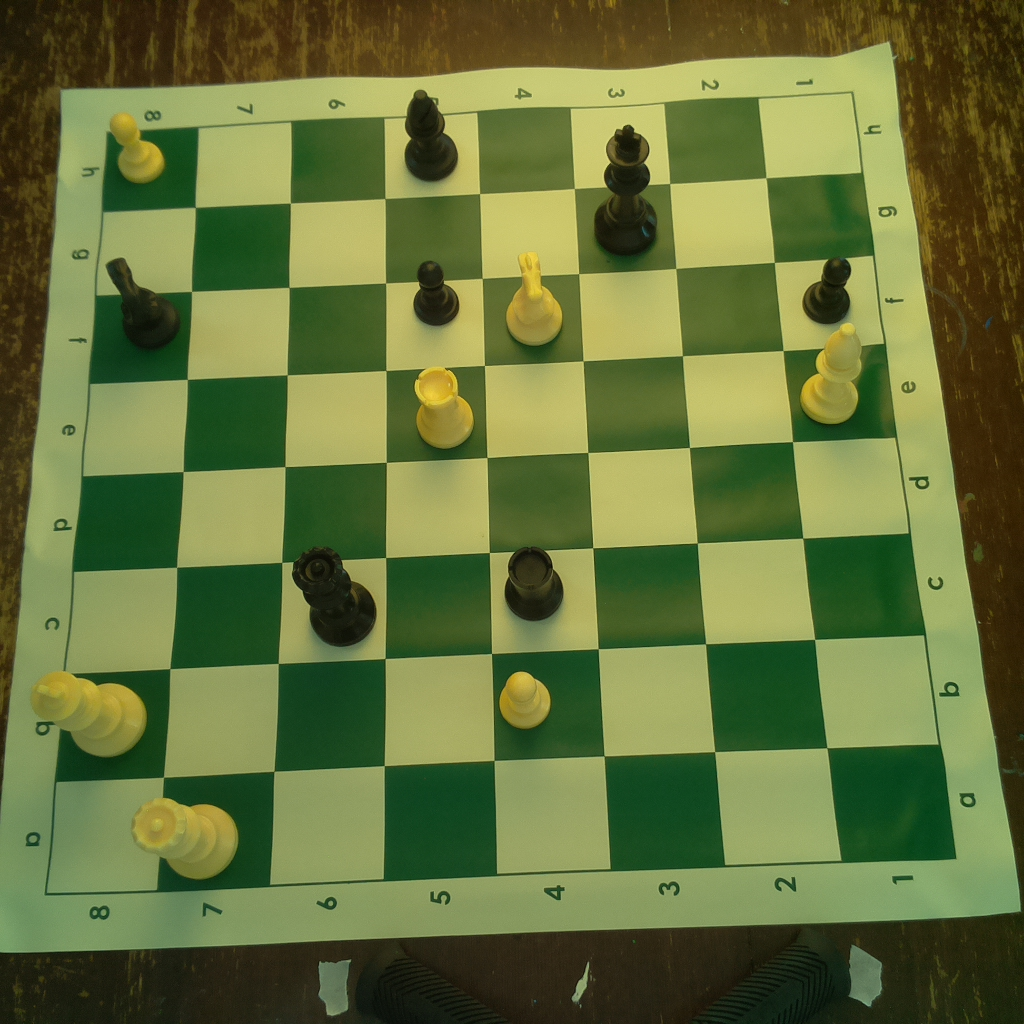black_bishop: (398, 86, 460, 183)
black_king: (592, 122, 660, 254)
black_knight: (99, 251, 183, 348)
black_pawn: (794, 247, 854, 326), (411, 256, 468, 327)
black_queen: (289, 543, 379, 645)
black_rook: (501, 544, 570, 626)
file_a: (44, 744, 959, 896)
file_b: (54, 635, 942, 782)
file_c: (63, 532, 924, 678)
file_d: (72, 436, 912, 571)
file_e: (83, 345, 896, 479)
file_f: (86, 257, 885, 383)
file_g: (96, 174, 875, 297)
file_h: (101, 92, 864, 214)
outline: (45, 91, 958, 897)
rank_1: (758, 90, 957, 864)
rank_2: (664, 96, 844, 866)
rank_3: (571, 101, 725, 874)
rank_4: (476, 105, 614, 873)
rank_5: (384, 112, 496, 883)
rank_6: (268, 117, 385, 883)
rank_7: (155, 121, 293, 896)
rank_8: (45, 127, 201, 892)
white_bishop: (797, 323, 863, 425)
white_king: (28, 662, 150, 756)
white_knight: (498, 251, 566, 352)
white_pawn: (108, 109, 167, 186), (494, 665, 555, 734)
white_queen: (128, 790, 244, 883)
white_rook: (405, 364, 477, 454)
